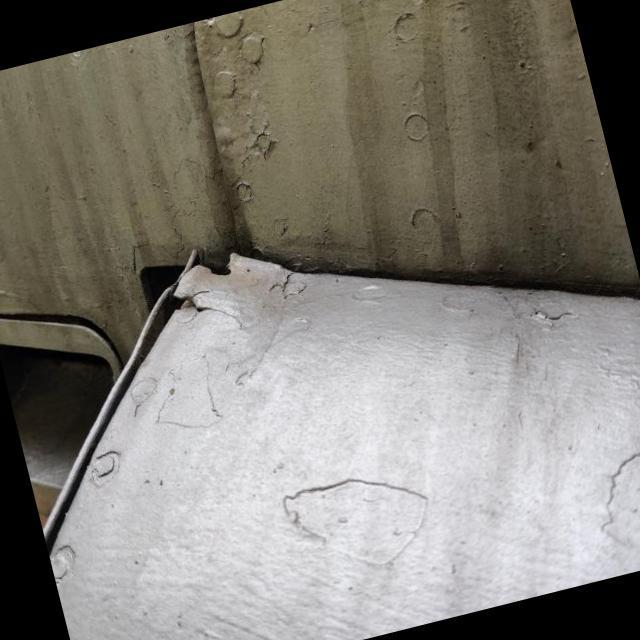Rupture: (142, 261, 256, 352)
